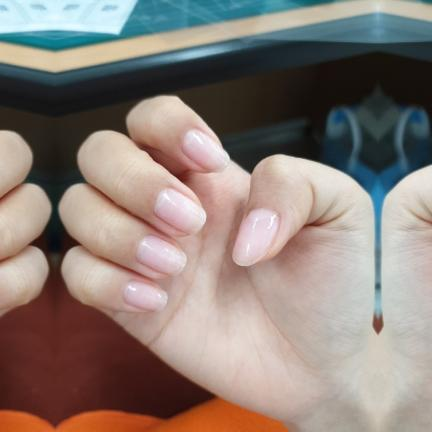Nail: (232, 209, 280, 266), (154, 189, 206, 234), (181, 129, 230, 173), (136, 235, 186, 276), (122, 280, 167, 311)
